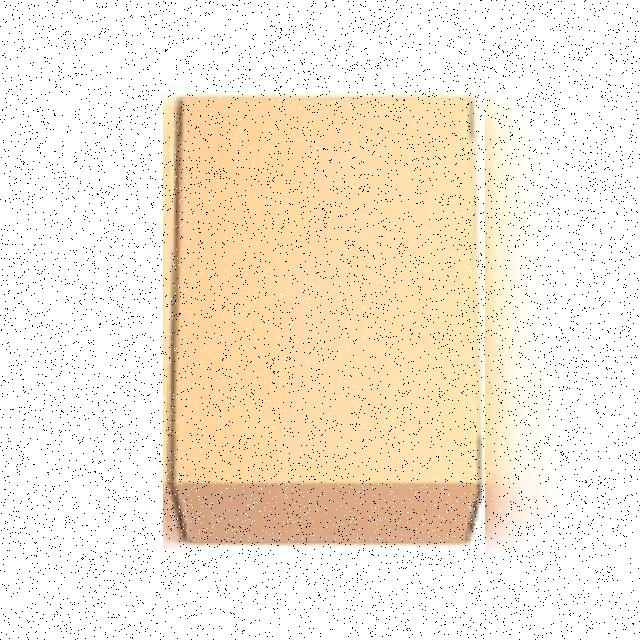normal: (163, 91, 485, 554)
